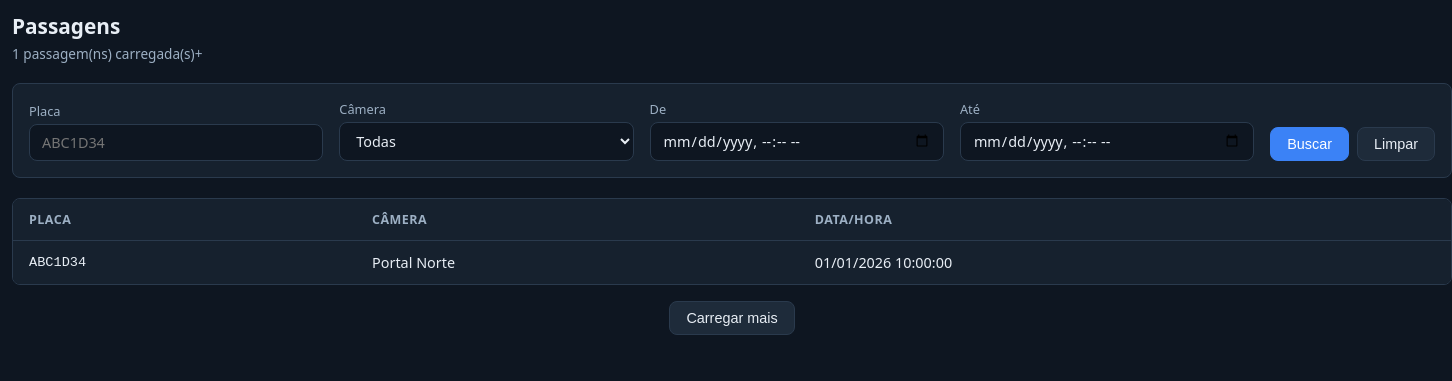
Test: DetectionsComponent › carregar mais anexa a próxima leva usando o cursor
Click the button "Carregar mais": (732, 318) x1=669 y1=301 x2=795 y2=335
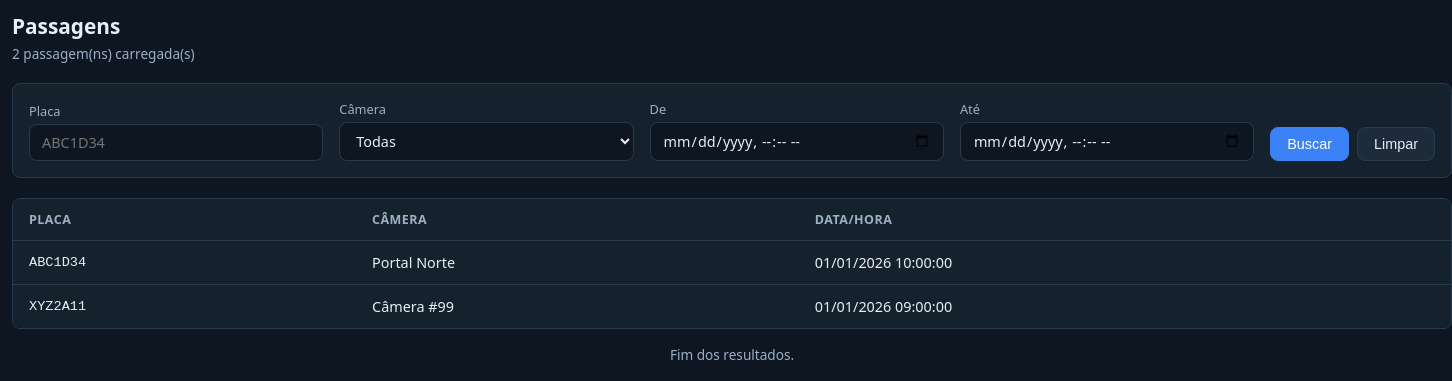
Expected: the text "Fim dos resultados" is shown, x1=670 y1=345 x2=794 y2=364
